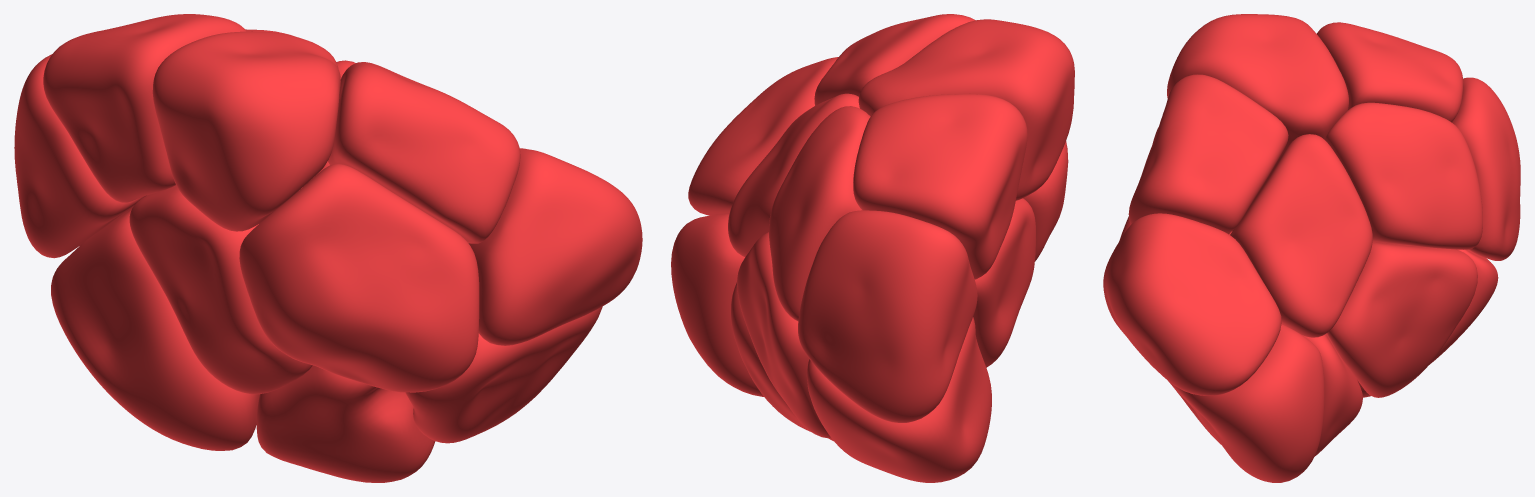
The picture shows the model from 3 angles, left to right: view 1: azimuth 30°, elevation 25°; view 2: azimuth 150°, elevation 25°; view 3: azimuth 270°, elevation 25°; orthographic projection. The views are drawn at different scales.
Visible parts, largest first — view 1: a5.012, a5.005, a5.006, a5.003, a5.013, a5.007, a5.001, a5.008, a5.010, a5.009; view 2: a5.010, a5.007, a5.005, a5.006, a5.011, a5.009, a5.003, a5.004, a5.001, a5.002, a5.013, a5.012 (+1 smaller); view 3: a5.003, a5.002, a5.011, a5.013, a5.004, a5.005, a5.009, a5.007, a5.010, a5.008, a5.006.
Boxes of the visible parts, <box> form: a5.012: <box>239,164,479,392</box>; a5.005: <box>152,31,340,231</box>; a5.006: <box>51,207,259,450</box>; a5.003: <box>468,148,642,345</box>; a5.013: <box>328,62,520,243</box>; a5.007: <box>43,14,246,202</box>; a5.001: <box>129,185,312,394</box>; a5.008: <box>256,365,435,482</box>; a5.010: <box>14,54,146,258</box>; a5.009: <box>405,306,602,443</box>; a5.010: <box>798,210,977,422</box>; a5.007: <box>853,93,1027,279</box>; a5.005: <box>858,19,1074,200</box>; a5.006: <box>806,317,991,482</box>; a5.011: <box>769,106,870,320</box>; a5.009: <box>671,214,763,396</box>; a5.003: <box>688,57,838,215</box>; a5.004: <box>737,232,831,438</box>; a5.001: <box>973,198,1035,367</box>; a5.002: <box>728,93,859,256</box>; a5.013: <box>814,14,975,105</box>; a5.012: <box>1023,141,1068,261</box>; a5.003: <box>1103,213,1281,395</box>; a5.002: <box>1230,134,1372,337</box>; a5.011: <box>1325,102,1482,249</box>; a5.013: <box>1128,74,1288,234</box>; a5.004: <box>1327,242,1477,397</box>; a5.005: <box>1167,14,1348,162</box>; a5.009: <box>1168,324,1324,482</box>; a5.007: <box>1317,22,1463,122</box>; a5.010: <box>1452,77,1520,260</box>; a5.008: <box>1281,323,1362,456</box>; a5.006: <box>1357,249,1498,397</box>.
Size of the model in its own units: 382 by 382 by 383.
